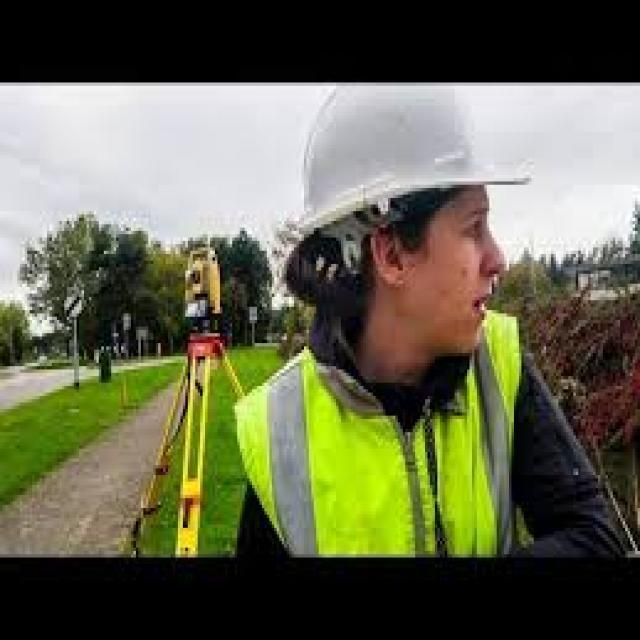reflective_jacket: (227, 313, 546, 570)
safety_helmet: (284, 85, 528, 244)
